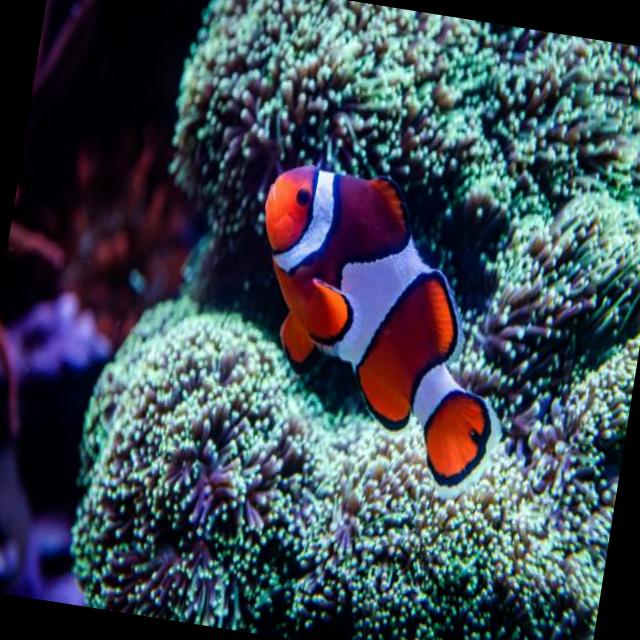ClownFish: (222, 153, 538, 504)
